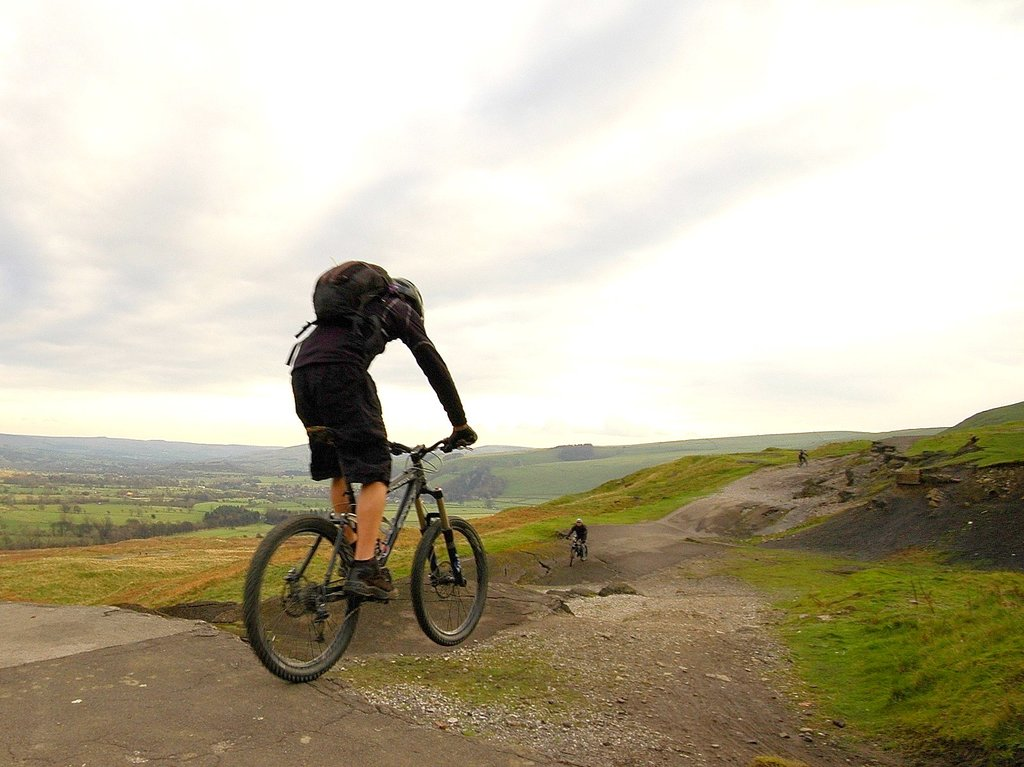Bike_away: (242, 422, 486, 681)
